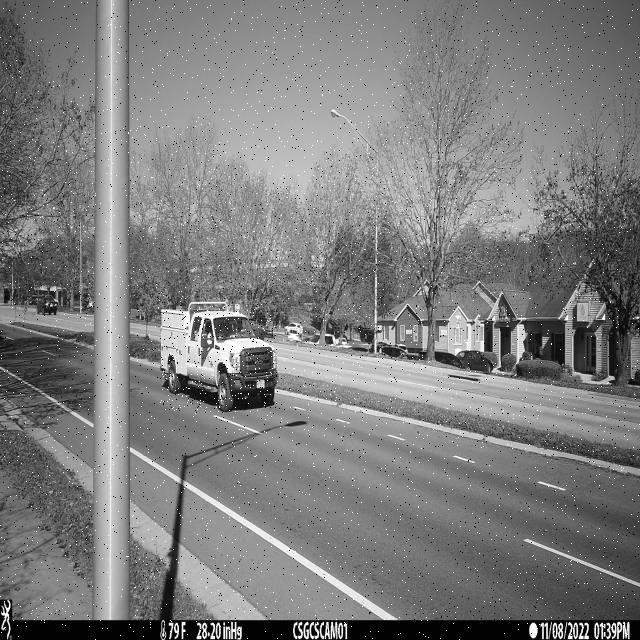Pickup- Utility: (160, 310, 278, 412)
